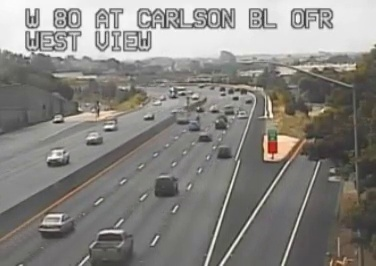car: (88, 229, 132, 262), (38, 213, 73, 234), (154, 175, 178, 195), (218, 146, 230, 159)
